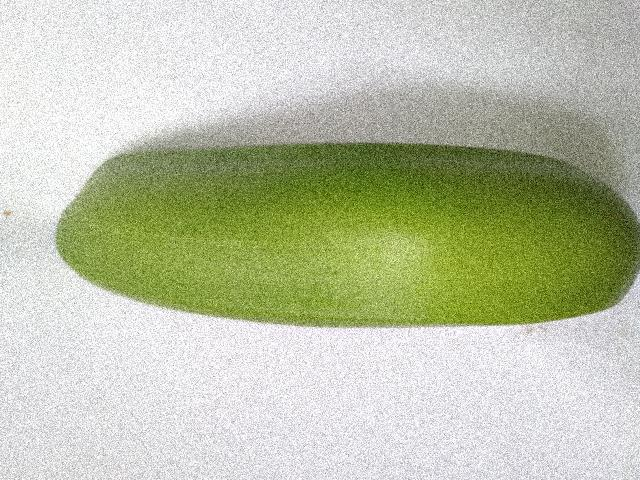freshunripe: (41, 133, 639, 343)
